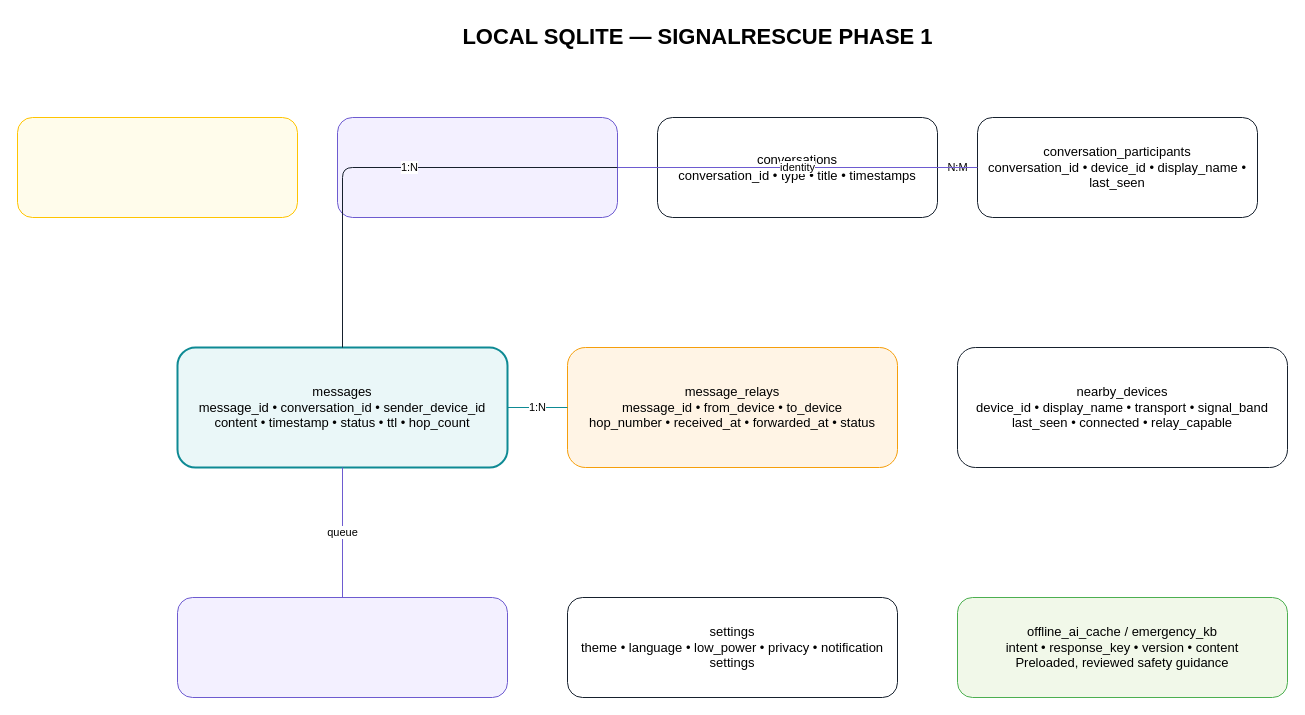
Some shapes in this 1305 by 715 pixel diagram are drawn without their labels. Each missing label, with the centre of its shape:
device_identity device_id • public_key • key_reference • created_at: point 477,167
outgoing_queue message_id • priority • attempts • next_retry_at • state: point 342,647
user_profile id • name • language • emergency_contact • created_at: point 157,167
